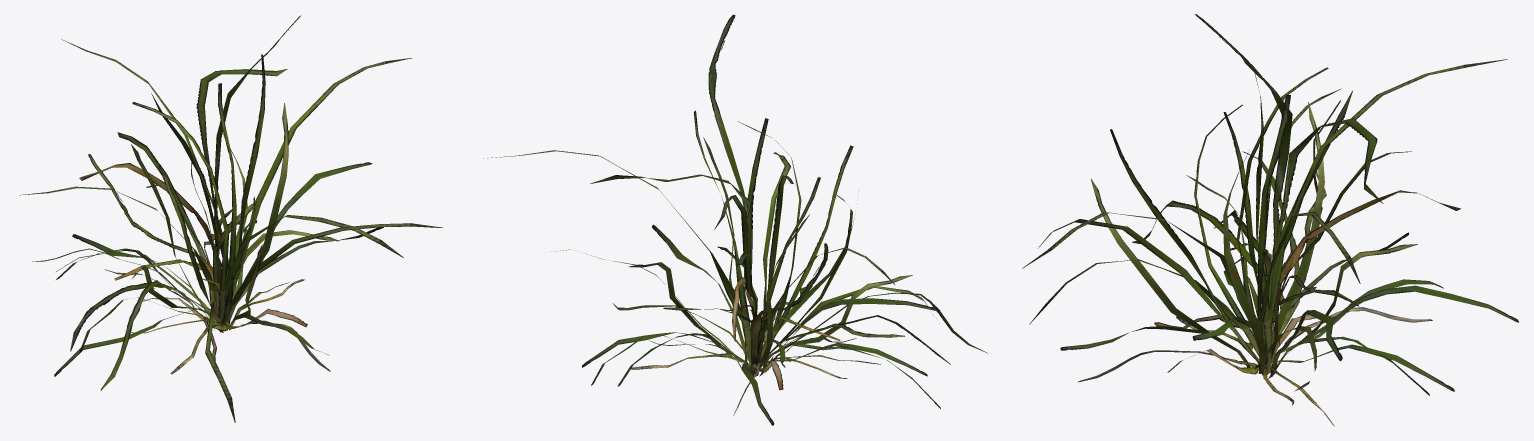
The model's file is grass_small_a.gltf.
3 renders of one model, left to right at view 1: azimuth 30°, elevation 25°; view 2: azimuth 150°, elevation 25°; view 3: azimuth 270°, elevation 25°, orthographic. The views are drawn at different scales.
Visible parts, largest first — view 1: grass_medium_01_small_a_LOD0; view 2: grass_medium_01_small_a_LOD0; view 3: grass_medium_01_small_a_LOD0.
Boxes of the visible parts, left/top/right/bottom form: grass_medium_01_small_a_LOD0: left=19, top=15, right=442, bottom=422; grass_medium_01_small_a_LOD0: left=483, top=14, right=988, bottom=425; grass_medium_01_small_a_LOD0: left=1022, top=14, right=1518, bottom=426.
Size of the model in its own units: 0.1848 by 0.1404 by 0.1623.
Materials: 1 (1 with a texture image).
